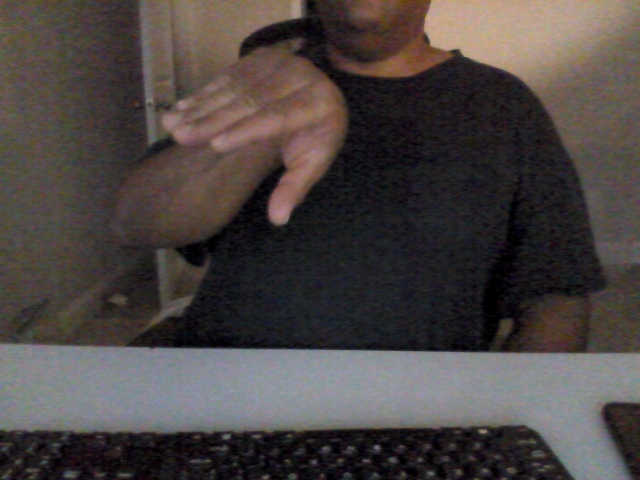no: (156, 42, 347, 229)
